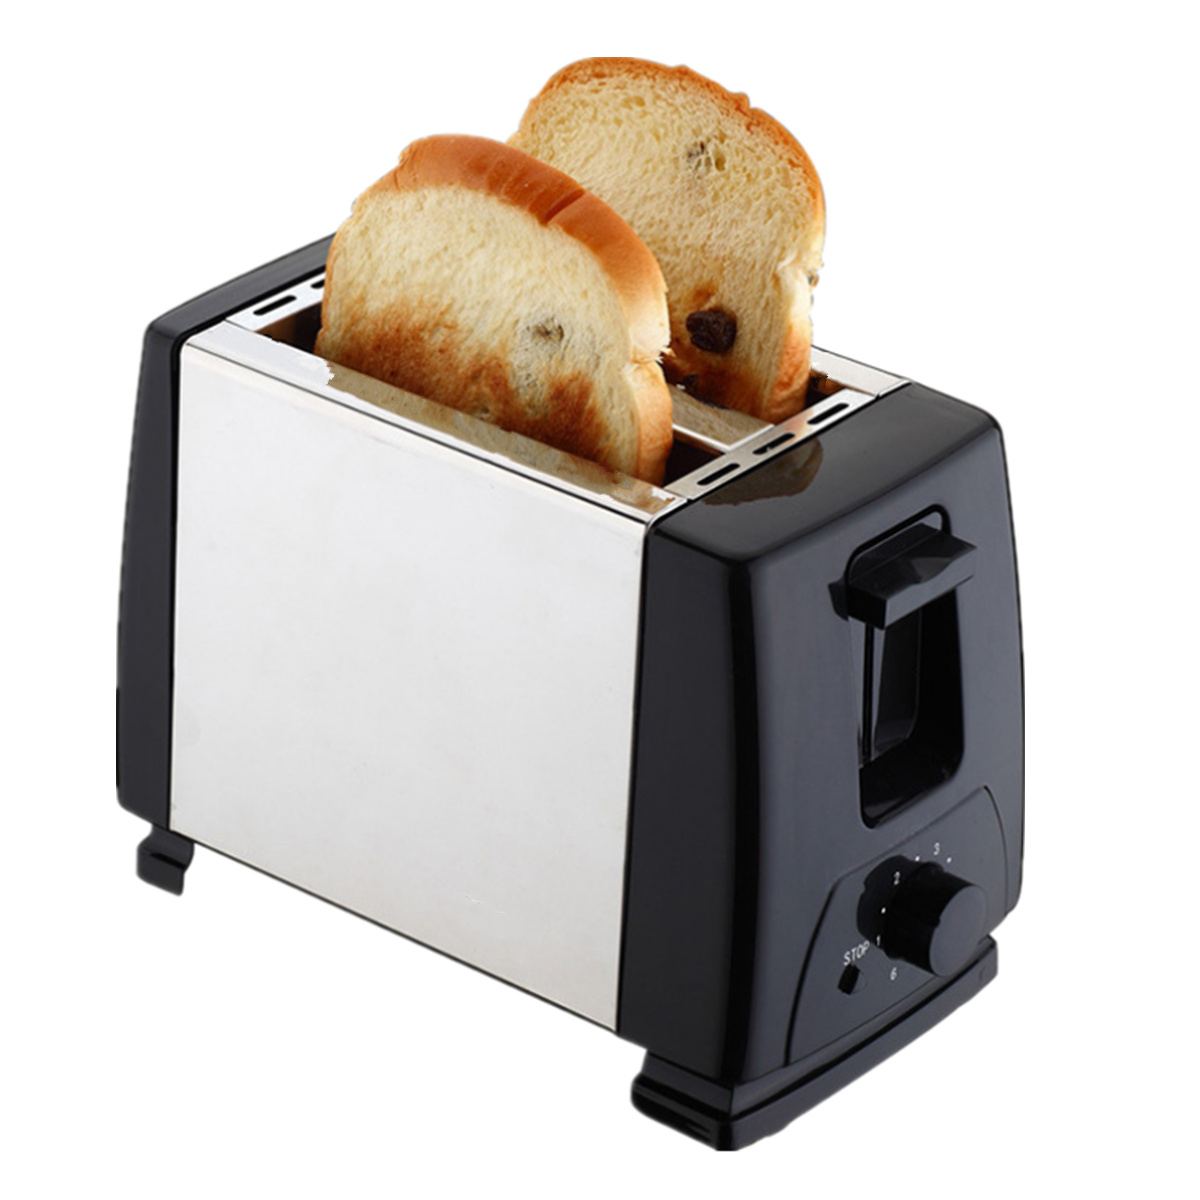slice of bread: (334, 146, 663, 457), (532, 62, 821, 410)
